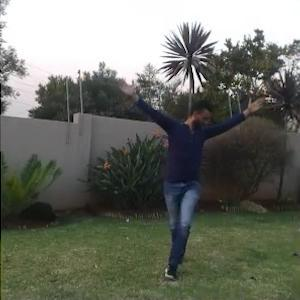takeoff: (123, 85, 268, 277)
